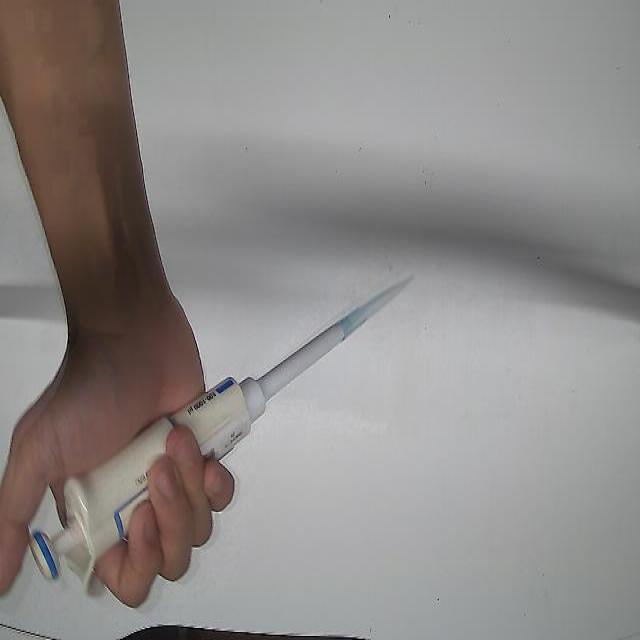Single Channel Pipettor: (29, 304, 368, 595)
